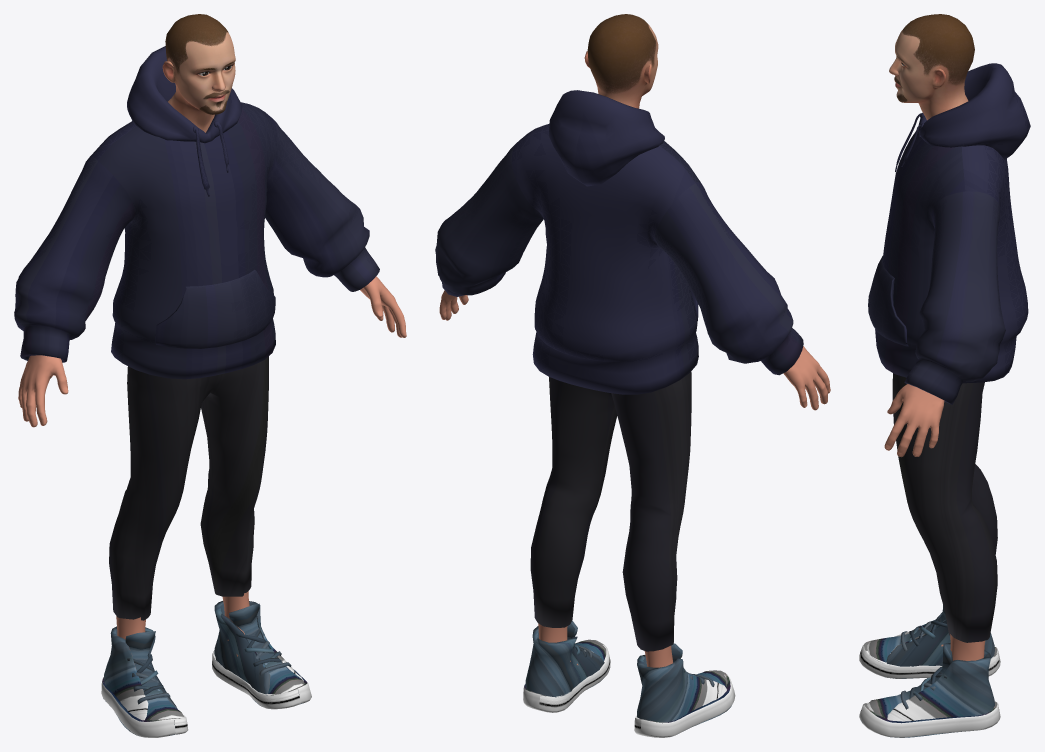
The model's file is idle.fbx.
The picture shows the model from 3 angles, left to right: view 1: azimuth 30°, elevation 25°; view 2: azimuth 150°, elevation 25°; view 3: azimuth 270°, elevation 25°; orthographic projection.
Parts seen in each view (by area): view 1: Wolf3D_Outfit_Top, Wolf3D_Outfit_Bottom, Wolf3D_Outfit_Footwear, Wolf3D_Head, Wolf3D_Body; view 2: Wolf3D_Outfit_Top, Wolf3D_Outfit_Bottom, Wolf3D_Outfit_Footwear, Wolf3D_Head, Wolf3D_Body; view 3: Wolf3D_Outfit_Top, Wolf3D_Outfit_Bottom, Wolf3D_Outfit_Footwear, Wolf3D_Head, Wolf3D_Body.
Boxes of the visible parts, x1=… form: Wolf3D_Outfit_Top: x1=14, y1=46, x2=379, y2=379; Wolf3D_Outfit_Bottom: x1=109, y1=356, x2=268, y2=620; Wolf3D_Outfit_Footwear: x1=101, y1=601, x2=311, y2=737; Wolf3D_Head: x1=162, y1=14, x2=235, y2=132; Wolf3D_Body: x1=18, y1=276, x2=406, y2=656; Wolf3D_Outfit_Top: x1=435, y1=90, x2=803, y2=394; Wolf3D_Outfit_Bottom: x1=530, y1=372, x2=691, y2=651; Wolf3D_Outfit_Footwear: x1=523, y1=620, x2=735, y2=737; Wolf3D_Head: x1=584, y1=14, x2=658, y2=108; Wolf3D_Body: x1=439, y1=290, x2=830, y2=667; Wolf3D_Outfit_Top: x1=868, y1=63, x2=1030, y2=404; Wolf3D_Outfit_Bottom: x1=892, y1=373, x2=997, y2=642; Wolf3D_Outfit_Footwear: x1=859, y1=605, x2=1000, y2=737; Wolf3D_Head: x1=889, y1=14, x2=974, y2=120; Wolf3D_Body: x1=884, y1=384, x2=985, y2=660.
Bounding box in the file's own units: 1.06 × 1.85 × 0.4206.
7 materials, 7 textured.
